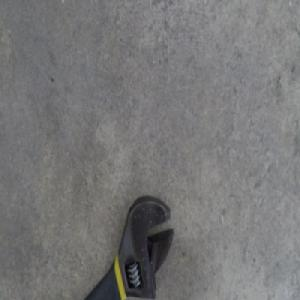AdjustableWrench: (81, 192, 173, 299)
